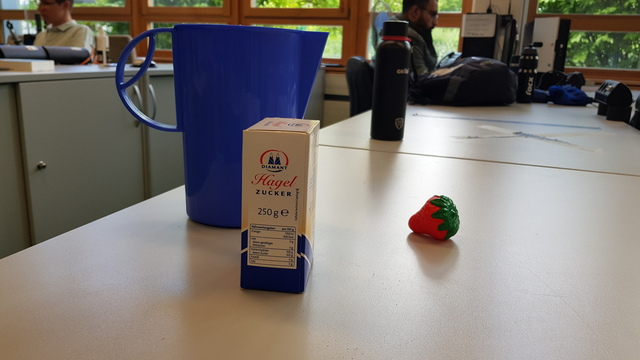004_sugar_box: (239, 115, 321, 292)
012_strawberry: (409, 194, 462, 240)
019_pitcher_base: (114, 23, 330, 230)
